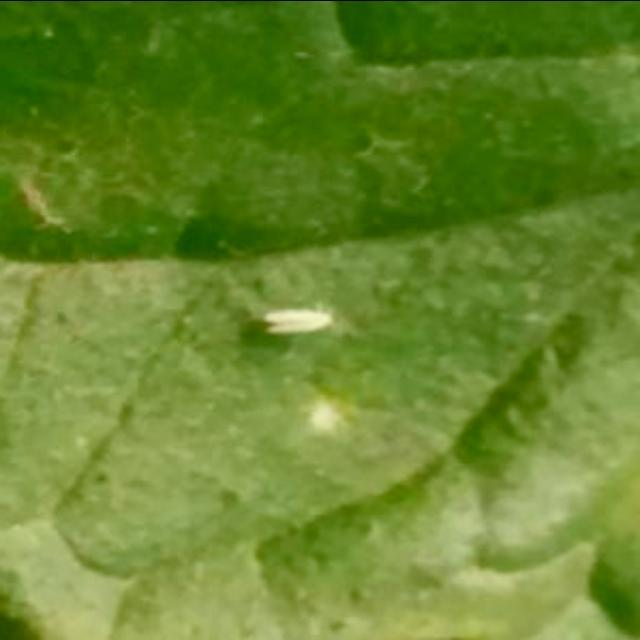Silverleaf whitefly: (250, 288, 354, 367)
